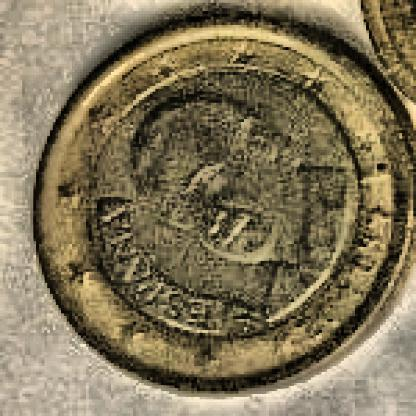coin: (31, 20, 413, 396)
